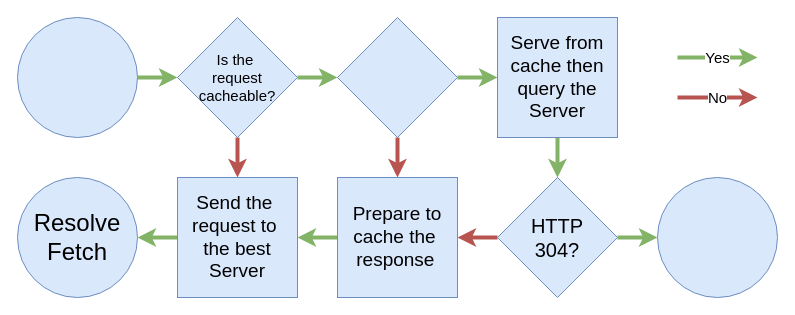
Some shapes in this 795 by 315 pixel diagram are drawn without their labels. The box of each missing label's shape, as (x1, y1, x2, y2) in pixels:
Done: (656, 176, 778, 298)
Fetch Event: (16, 16, 138, 138)
Is it available in cache?: (336, 16, 458, 138)
